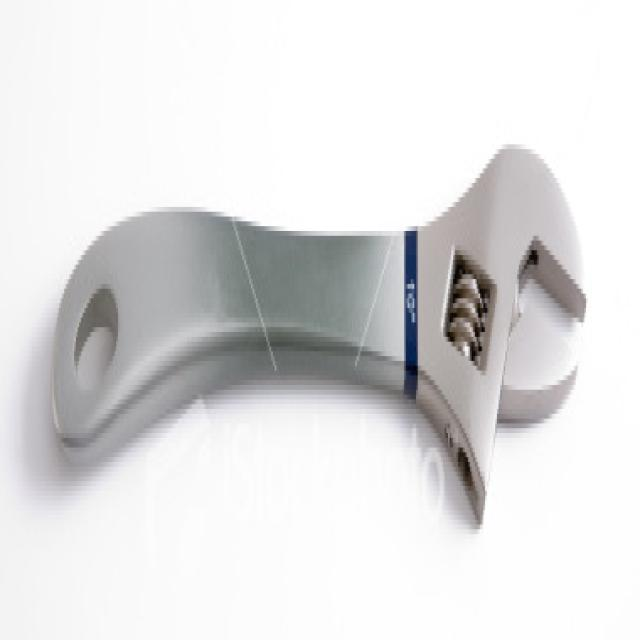wrench: (29, 98, 597, 558)
